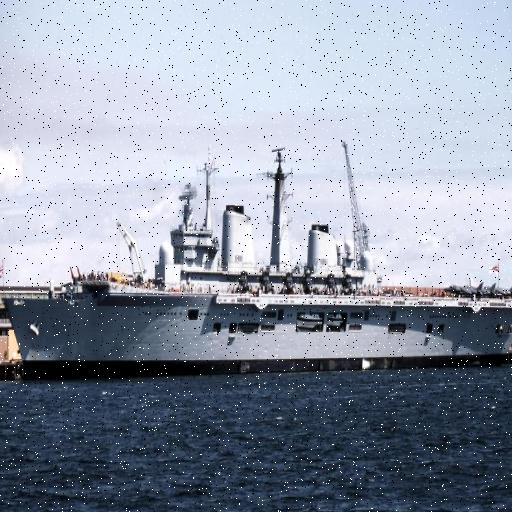Portanaves: (1, 137, 512, 389)
